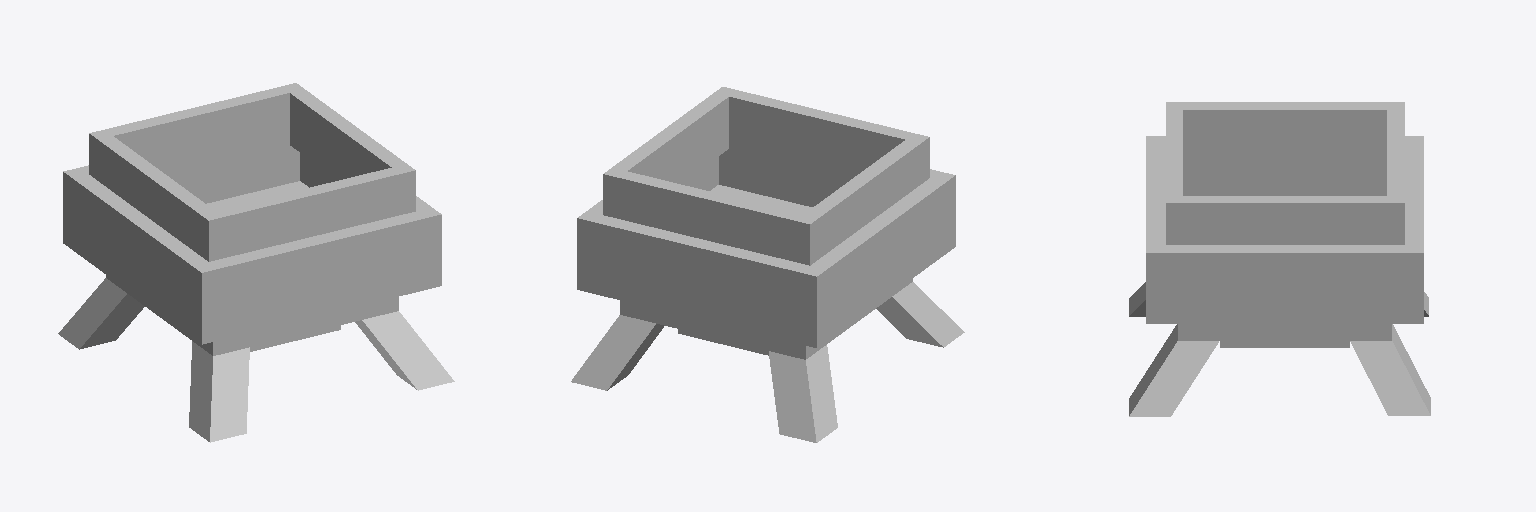
The model's file is cauldron.obj.
3 views of the same model, side by side, from view 1: azimuth 30°, elevation 25°; view 2: azimuth 150°, elevation 25°; view 3: azimuth 270°, elevation 25° (orthographic).
Parts seen in each view (by area): view 1: Plane; view 2: Plane; view 3: Plane.
Part boxes in pixels (left/top/right/bottom): Plane: left=58, top=83, right=454, bottom=442; Plane: left=571, top=87, right=964, bottom=442; Plane: left=1129, top=102, right=1430, bottom=416.
Size of the model in its own units: 0.9145 by 0.7264 by 0.969.